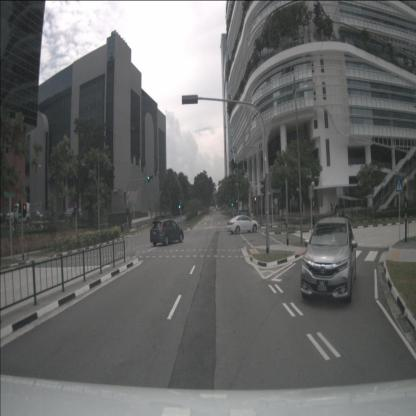vehicle-car: (300, 217, 356, 304), (150, 219, 184, 246), (226, 214, 259, 235), (5, 202, 32, 226), (64, 207, 80, 221), (30, 210, 44, 221)
